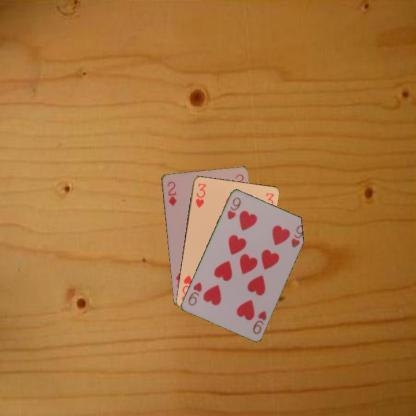2d: (165, 178, 178, 207)
3h: (193, 180, 207, 209)
9h: (249, 307, 268, 335), (224, 194, 242, 221)
